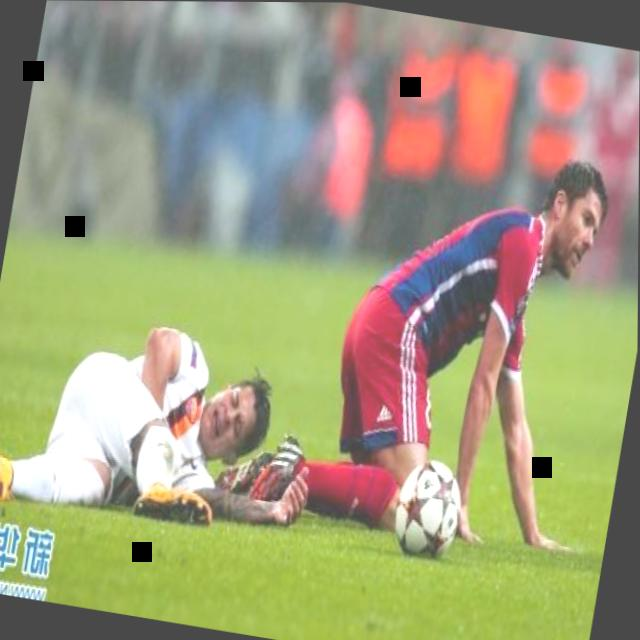Fall-Detected: (258, 105, 637, 589)
